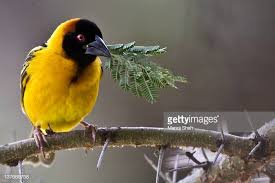target: (14, 17, 119, 154)
